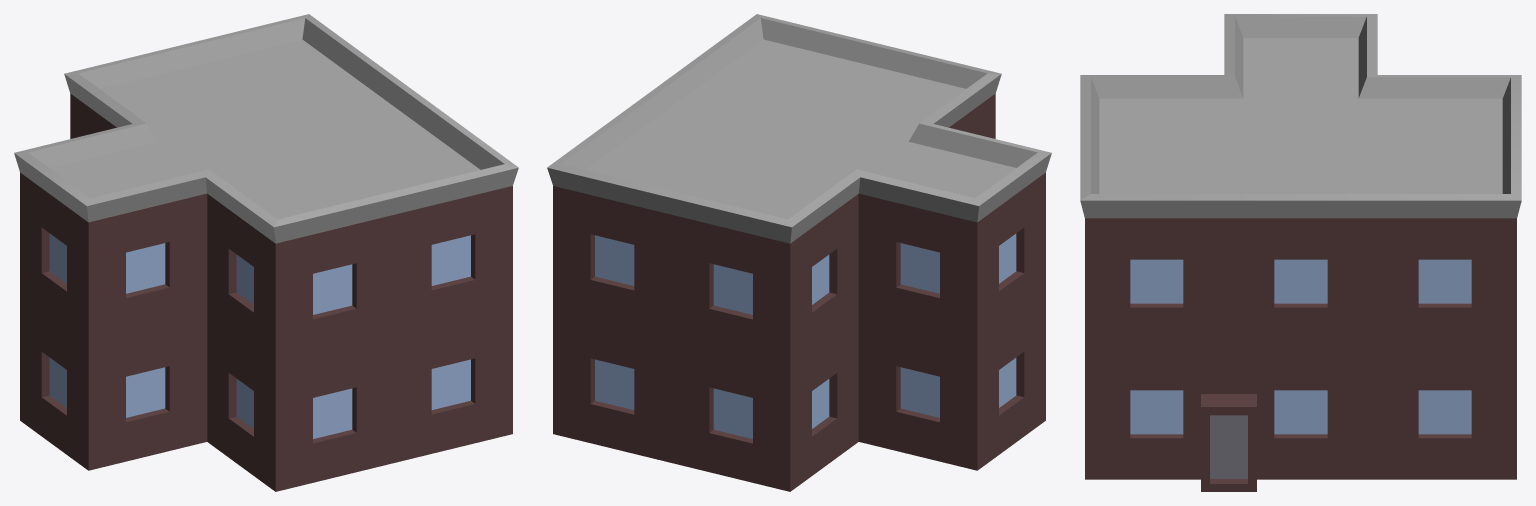
File: Building4.fbx
3 views of the same model, side by side, from view 1: azimuth 30°, elevation 25°; view 2: azimuth 150°, elevation 25°; view 3: azimuth 270°, elevation 25° (orthographic). The views are drawn at different scales.
Parts seen in each view (by area): view 1: building4:Mesh1; view 2: building4:Mesh1; view 3: building4:Mesh1.
Part boxes in pixels (x1,y1,x2,y2): building4:Mesh1: (14, 14, 518, 491); building4:Mesh1: (547, 14, 1051, 491); building4:Mesh1: (1080, 14, 1521, 491).
Size of the model in its own units: 32.47 by 21.68 by 30.65.
